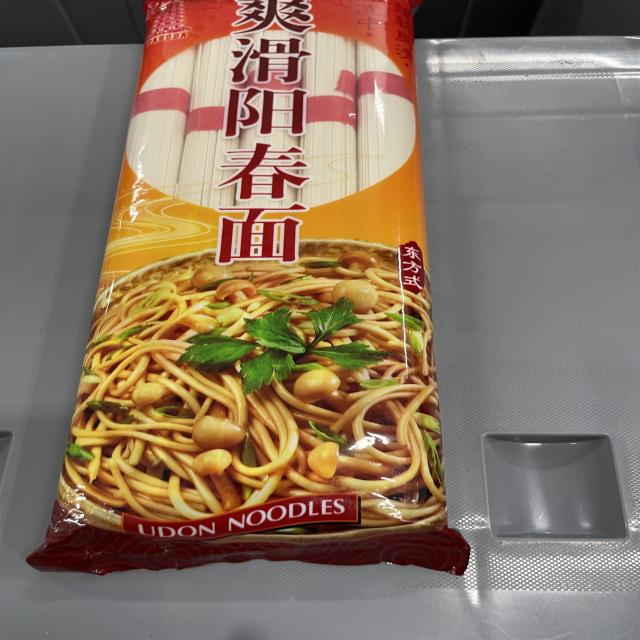object_name: (114, 0, 430, 559)
